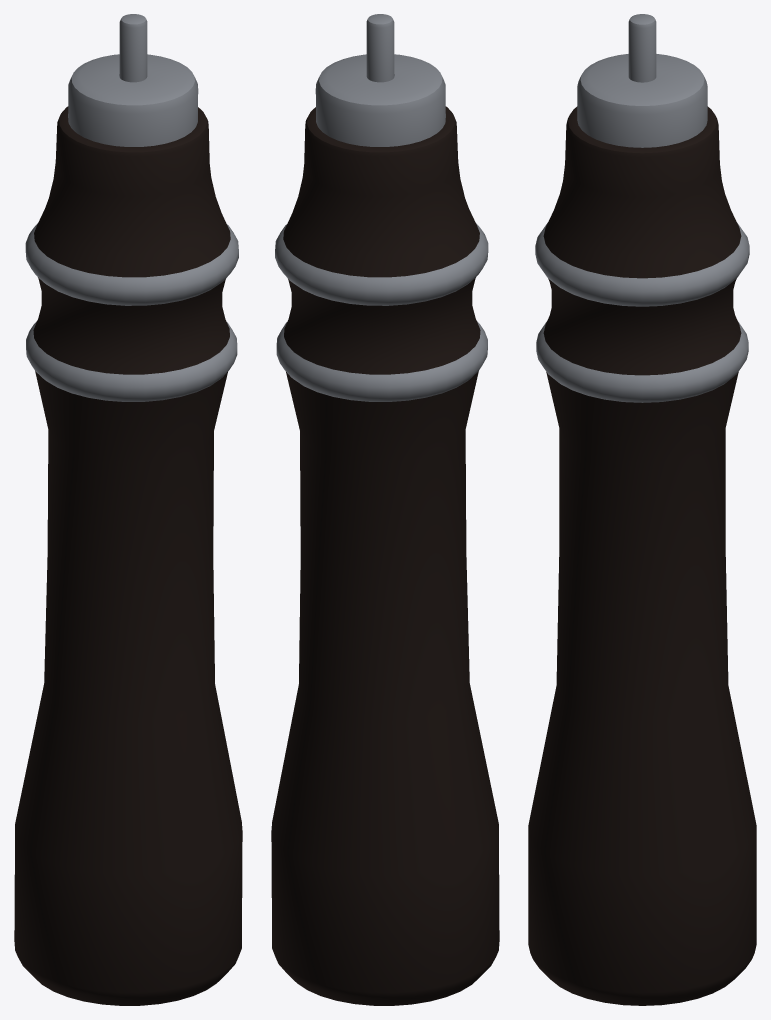
File: F_Tool_03.fbx
3 renders of one model, left to right at view 1: azimuth 30°, elevation 25°; view 2: azimuth 150°, elevation 25°; view 3: azimuth 270°, elevation 25°, orthographic.
Visible parts, largest first — view 1: F_Tool_03; view 2: F_Tool_03; view 3: F_Tool_03.
Boxes of the visible parts, bbox=[...] form: F_Tool_03: bbox=[14, 14, 242, 1005]; F_Tool_03: bbox=[271, 14, 499, 1005]; F_Tool_03: bbox=[528, 14, 756, 1005].
Bounding box in the file's own units: 4.55 × 20.86 × 4.53.
Materials: 1 (1 with a texture image).
